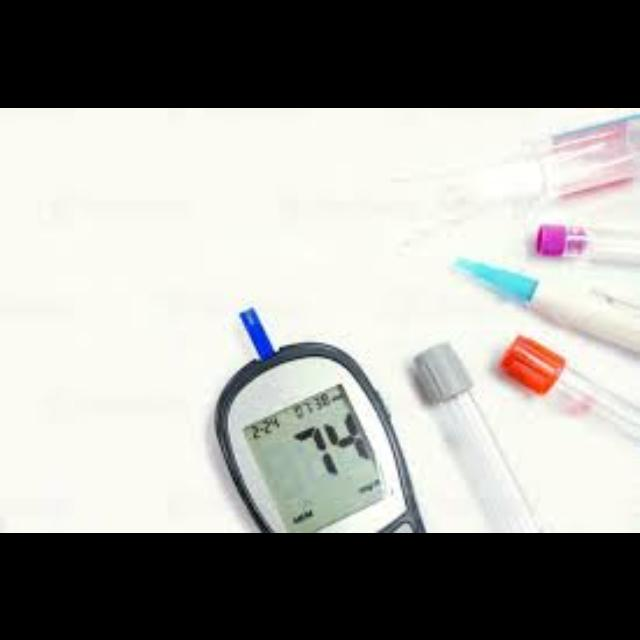Glucose-Meter: (215, 312, 423, 531)
